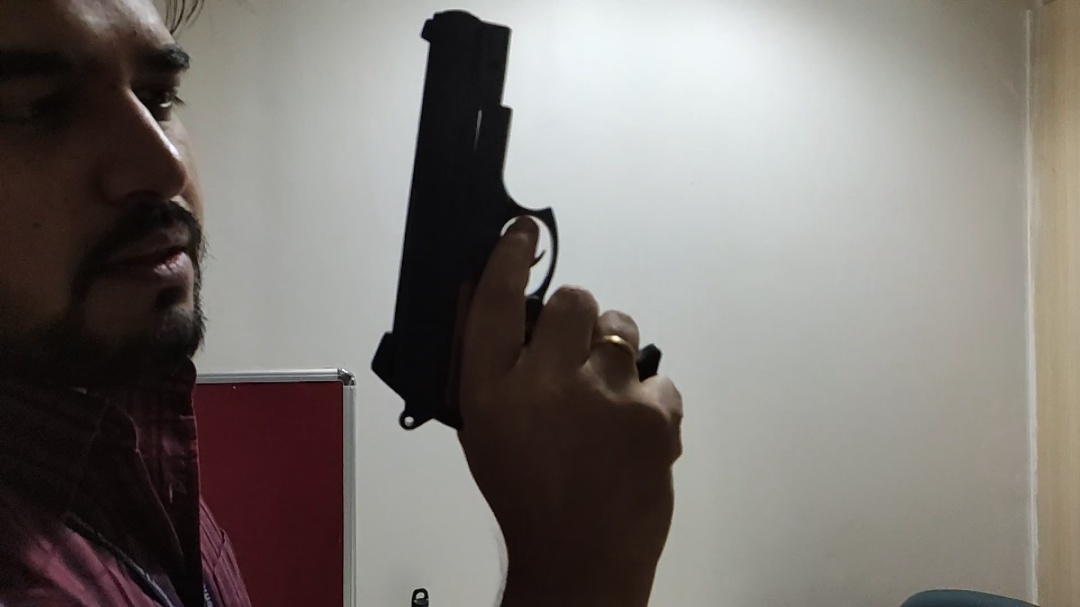gun: (363, 6, 666, 429)
